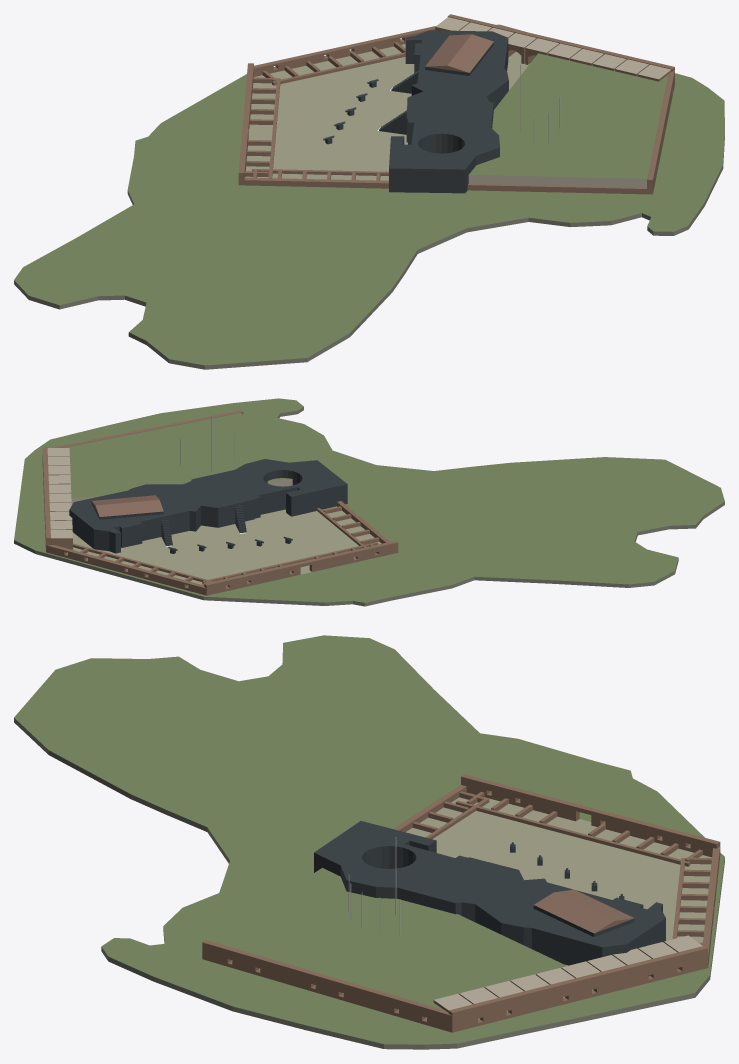
The model's file is fort-sumter-near.glb.
3 renders of one model, top to bottom at view 1: azimuth 30°, elevation 25°; view 2: azimuth 150°, elevation 25°; view 3: azimuth 270°, elevation 25°, orthographic. The views are drawn at different scales.
Visible parts, largest first — view 1: fort-sumter-0-grass, fort-sumter-0-ground, fort-sumter-0-battery, fort-sumter-0-brick, fort-sumter-0-stone, fort-sumter-0-rock, fort-sumter-0-roof; view 2: fort-sumter-0-grass, fort-sumter-0-battery, fort-sumter-0-ground, fort-sumter-0-brick, fort-sumter-0-rock, fort-sumter-0-stone, fort-sumter-0-roof; view 3: fort-sumter-0-grass, fort-sumter-0-brick, fort-sumter-0-battery, fort-sumter-0-ground, fort-sumter-0-rock, fort-sumter-0-stone, fort-sumter-0-roof.
Part boxes in pixels (bbox=[...]): fort-sumter-0-grass: bbox=[14, 24, 724, 365]; fort-sumter-0-ground: bbox=[245, 44, 529, 180]; fort-sumter-0-battery: bbox=[323, 30, 508, 193]; fort-sumter-0-brick: bbox=[238, 14, 674, 194]; fort-sumter-0-stone: bbox=[435, 17, 671, 187]; fort-sumter-0-rock: bbox=[14, 136, 724, 369]; fort-sumter-0-roof: bbox=[425, 34, 493, 72]; fort-sumter-0-grass: bbox=[14, 398, 724, 602]; fort-sumter-0-battery: bbox=[69, 459, 347, 553]; fort-sumter-0-ground: bbox=[67, 506, 381, 586]; fort-sumter-0-brick: bbox=[42, 410, 398, 595]; fort-sumter-0-rock: bbox=[14, 407, 724, 606]; fort-sumter-0-stone: bbox=[47, 448, 292, 538]; fort-sumter-0-roof: bbox=[92, 495, 163, 516]; fort-sumter-0-grass: bbox=[14, 635, 724, 1044]; fort-sumter-0-brick: bbox=[202, 774, 720, 1032]; fort-sumter-0-battery: bbox=[314, 821, 665, 965]; fort-sumter-0-ground: bbox=[231, 792, 711, 1019]; fort-sumter-0-rock: bbox=[14, 718, 724, 1049]; fort-sumter-0-stone: bbox=[434, 935, 702, 1010]; fort-sumter-0-roof: bbox=[534, 889, 634, 933].
Bounding box in the file's own units: 213 × 24 × 157.
